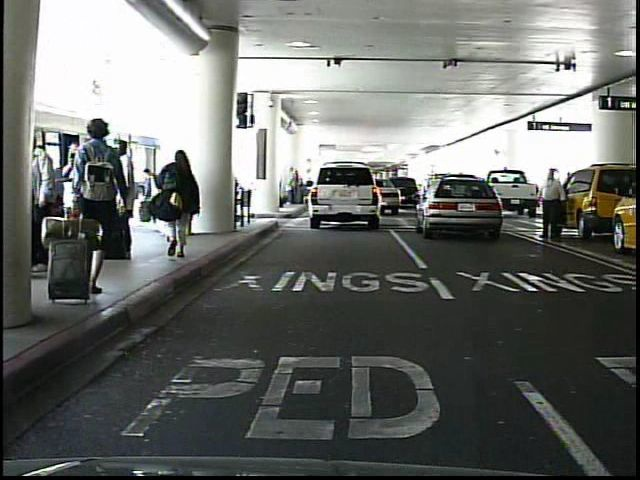person: (72, 112, 127, 306), (156, 144, 201, 268), (29, 126, 62, 276), (106, 137, 143, 259), (539, 167, 567, 244), (169, 156, 194, 235)
